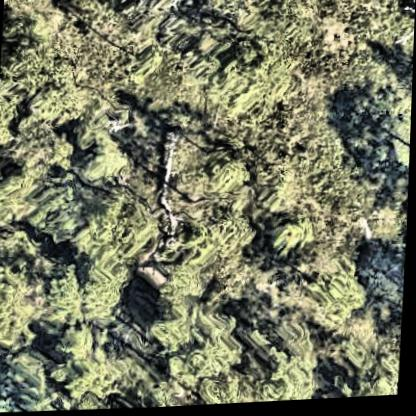tree-top: (174, 20, 294, 113), (73, 184, 149, 326), (53, 319, 145, 403), (301, 263, 370, 334), (79, 129, 142, 188)
